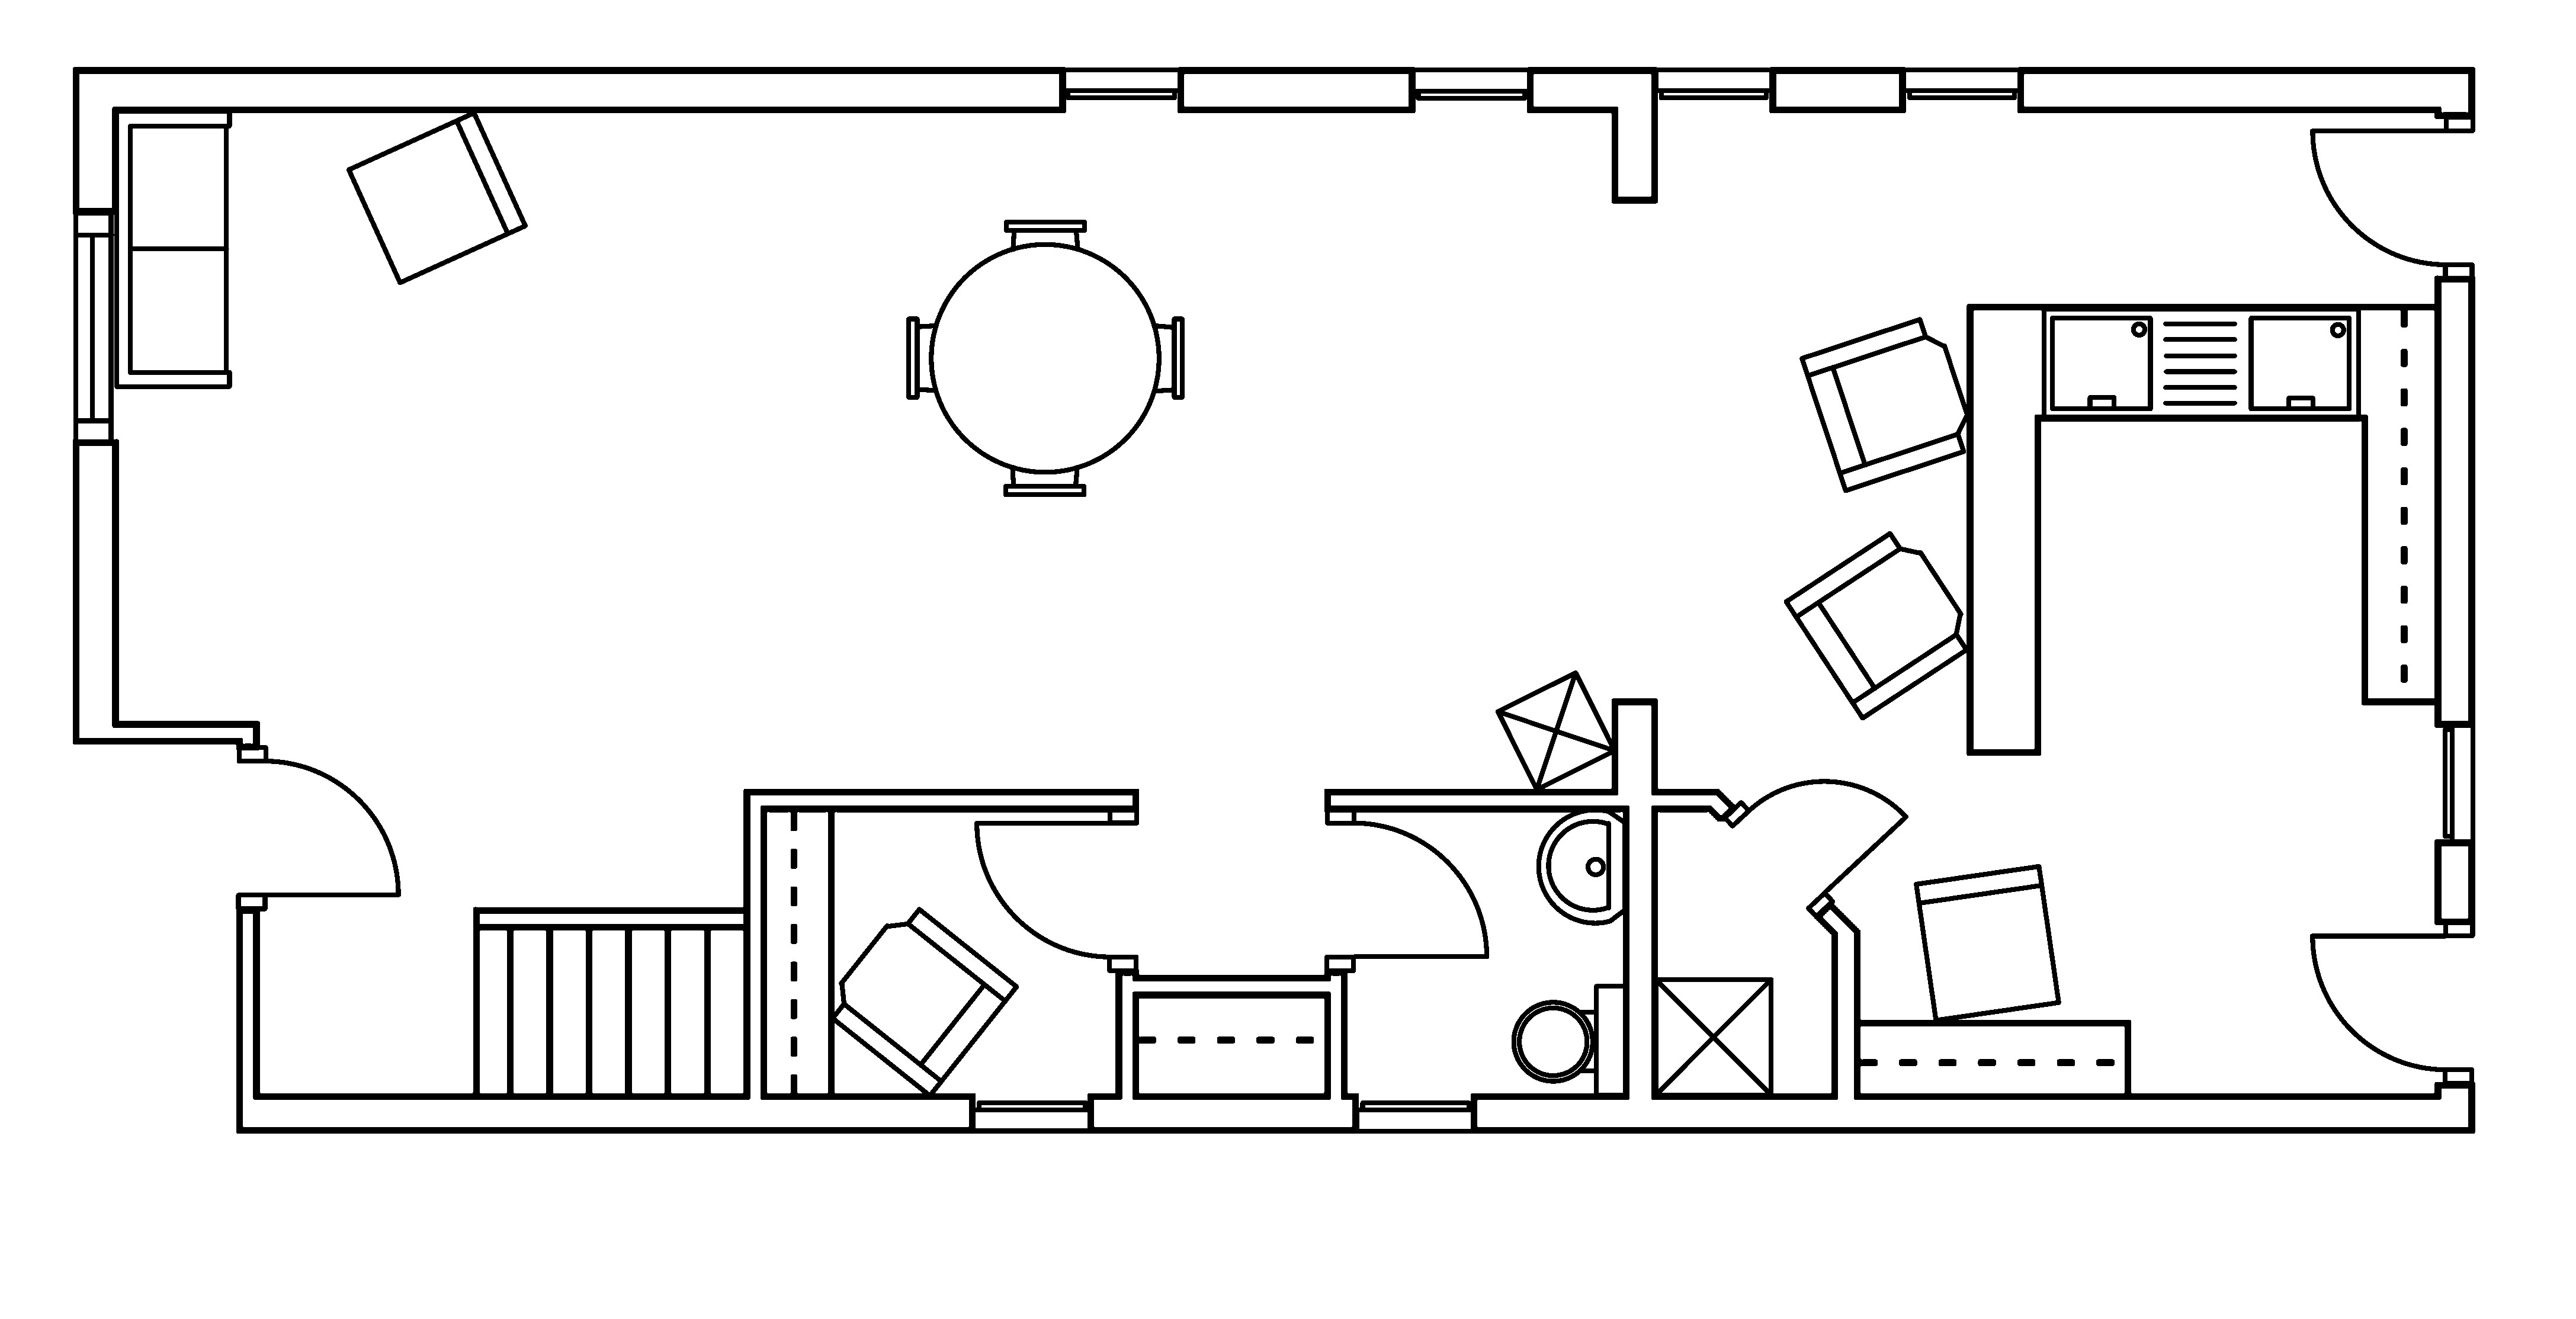armchair: (829, 905, 1019, 1099), (1782, 530, 1969, 720), (1797, 316, 1971, 493)
coffee_table: (1493, 670, 1618, 792), (1651, 976, 1774, 1097)
large_sink: (1512, 983, 1628, 1097)
large_sofa: (113, 108, 232, 389)
round_table: (905, 219, 1185, 496)
small_sink: (1535, 808, 1628, 925)
small_sofa: (345, 109, 528, 284), (1912, 863, 2061, 1023)
twin_sink: (2040, 305, 2361, 421)
